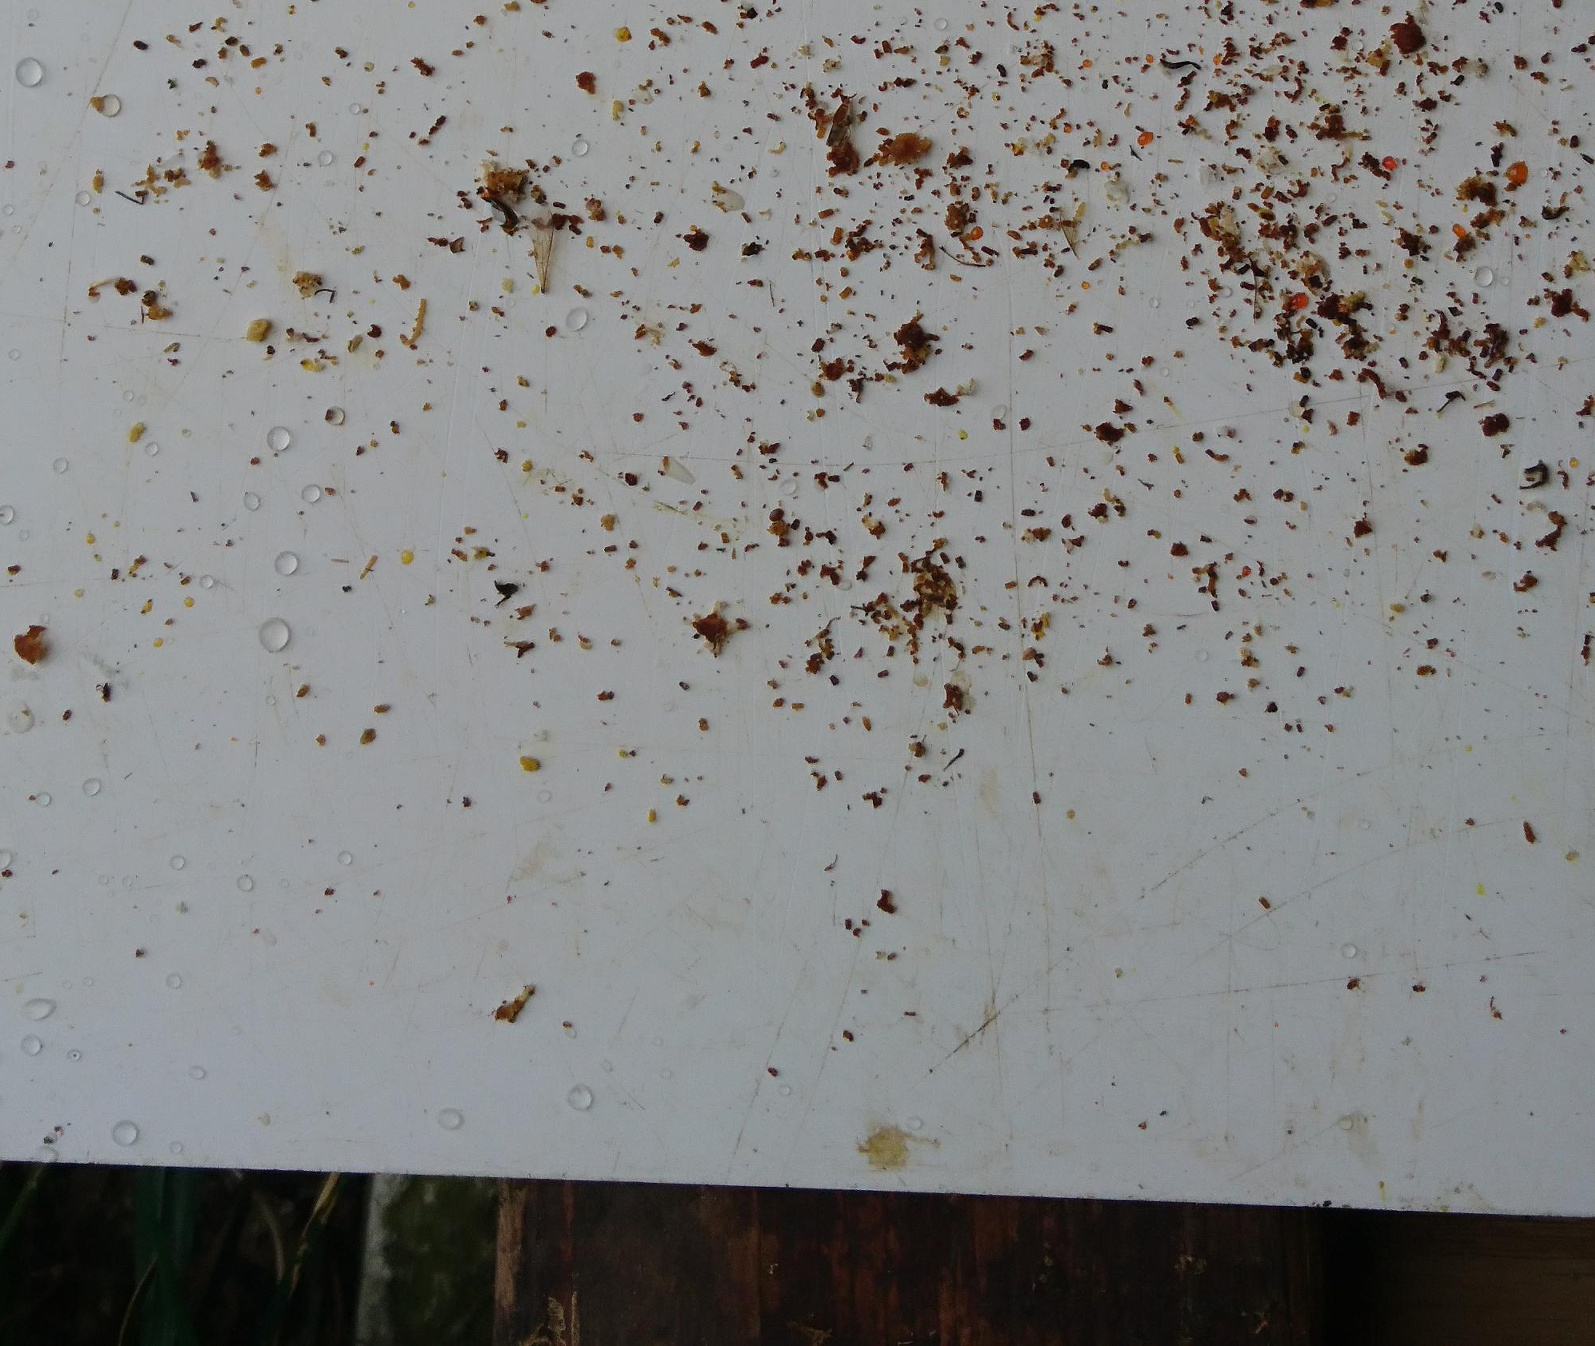Varroa: (769, 507, 787, 526)
